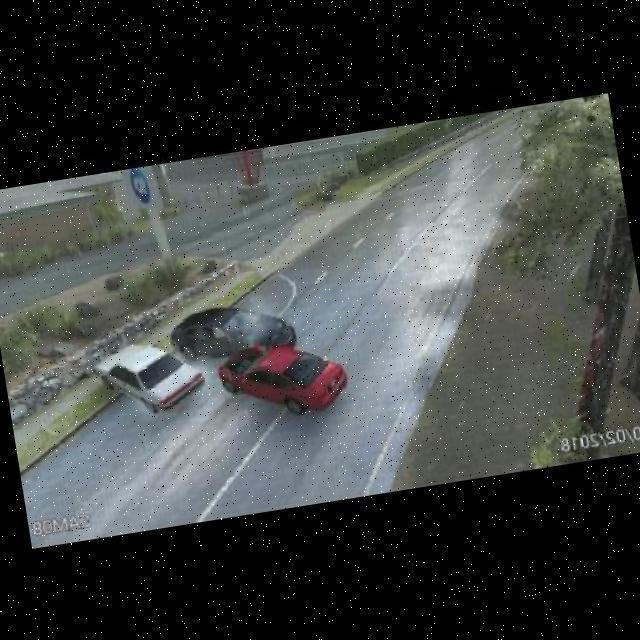accident: (144, 299, 345, 429)
